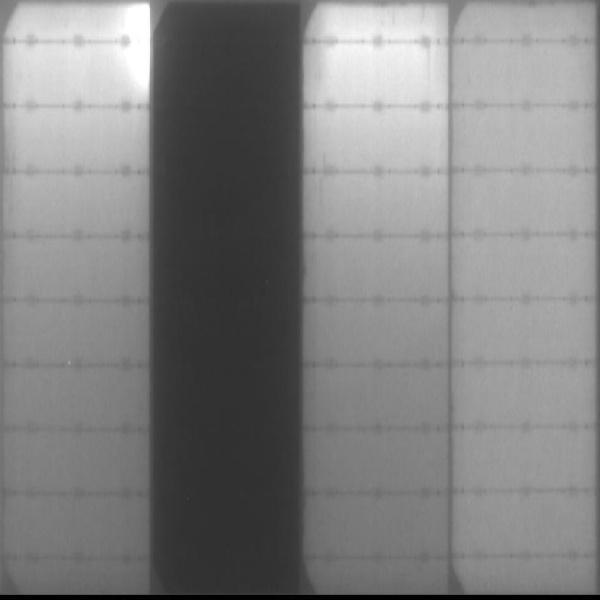hot_spot: (129, 3, 152, 82)
no_electricity: (151, 4, 301, 595)
